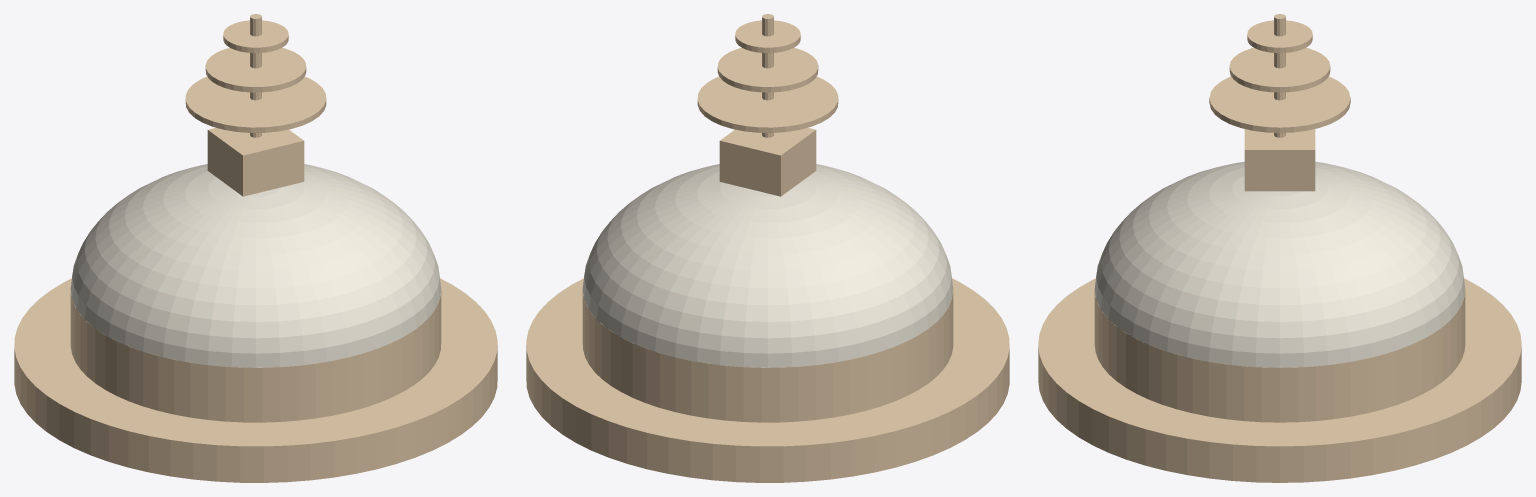
File: stupa_s4.glb
3 views of the same model, side by side, from view 1: azimuth 30°, elevation 25°; view 2: azimuth 150°, elevation 25°; view 3: azimuth 270°, elevation 25° (orthographic).
Parts seen in each view (by area): view 1: stupa; view 2: stupa; view 3: stupa.
Boxes of the visible parts, <box> form: stupa: <box>14,14,497,482</box>; stupa: <box>526,14,1009,482</box>; stupa: <box>1038,14,1521,482</box>.
Bounding box in the file's own units: 12.03 × 10 × 12.03.
